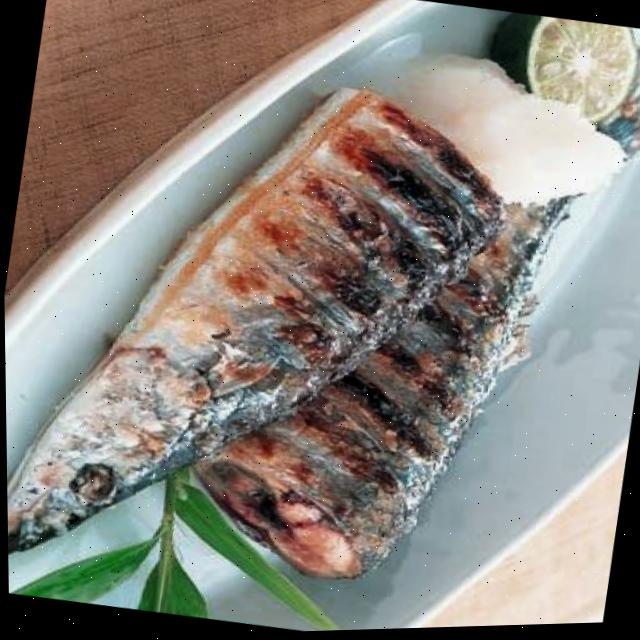熟制海鲜: (1, 56, 546, 640)
